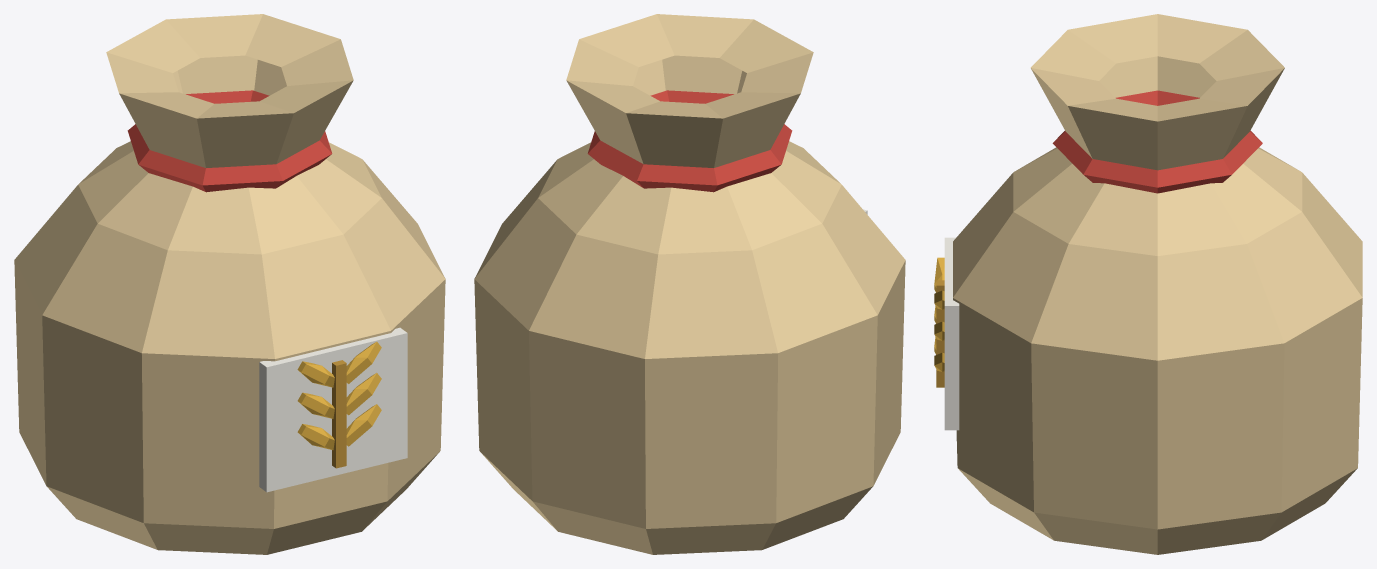
Rendered from Food_Flour.obj.
The picture shows the model from 3 angles, left to right: view 1: azimuth 30°, elevation 25°; view 2: azimuth 150°, elevation 25°; view 3: azimuth 270°, elevation 25°; orthographic projection.
Size of the model in its own units: 1.76 by 1.86 by 1.75.
